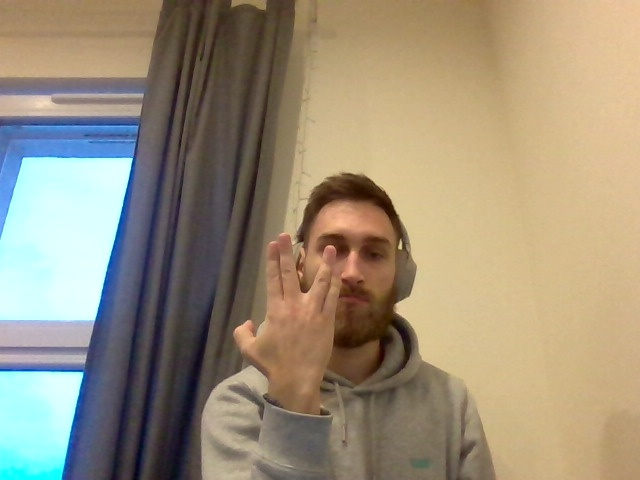LiveLong: (232, 234, 343, 387)
